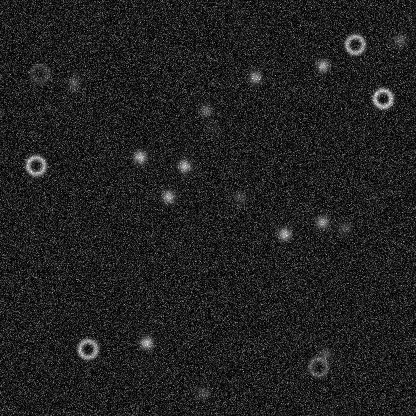Ring: (370, 86, 394, 110), (306, 354, 330, 378), (75, 336, 99, 360), (342, 32, 366, 56), (27, 61, 51, 85), (23, 153, 47, 177)
Spot: (65, 74, 81, 90), (276, 225, 292, 241), (194, 384, 210, 400), (231, 189, 247, 205), (314, 213, 330, 229), (131, 148, 147, 164), (336, 219, 352, 235), (205, 120, 221, 136), (176, 158, 192, 174), (317, 346, 333, 362), (391, 31, 407, 47), (159, 188, 175, 204), (138, 334, 154, 350), (197, 102, 213, 118), (247, 69, 263, 85), (314, 57, 330, 73)
